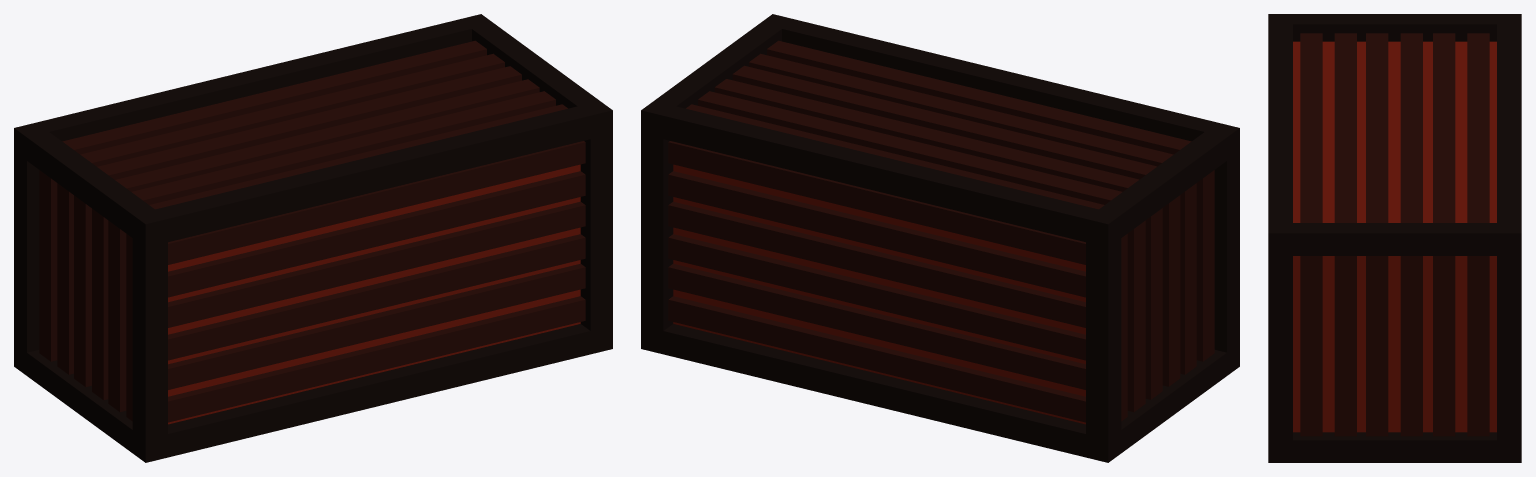
The model's file is caja_larga.fbx.
3 renders of one model, left to right at view 1: azimuth 30°, elevation 25°; view 2: azimuth 150°, elevation 25°; view 3: azimuth 270°, elevation 25°, orthographic. The views are drawn at different scales.
Visible parts, largest first — view 1: caja_larga; view 2: caja_larga; view 3: caja_larga.
Part boxes in pixels (x1,y1,x2,y2): caja_larga: (14,14,612,462); caja_larga: (641,14,1239,462); caja_larga: (1268,14,1521,462).
Bounding box in the file's own units: 205 × 100 × 100.
